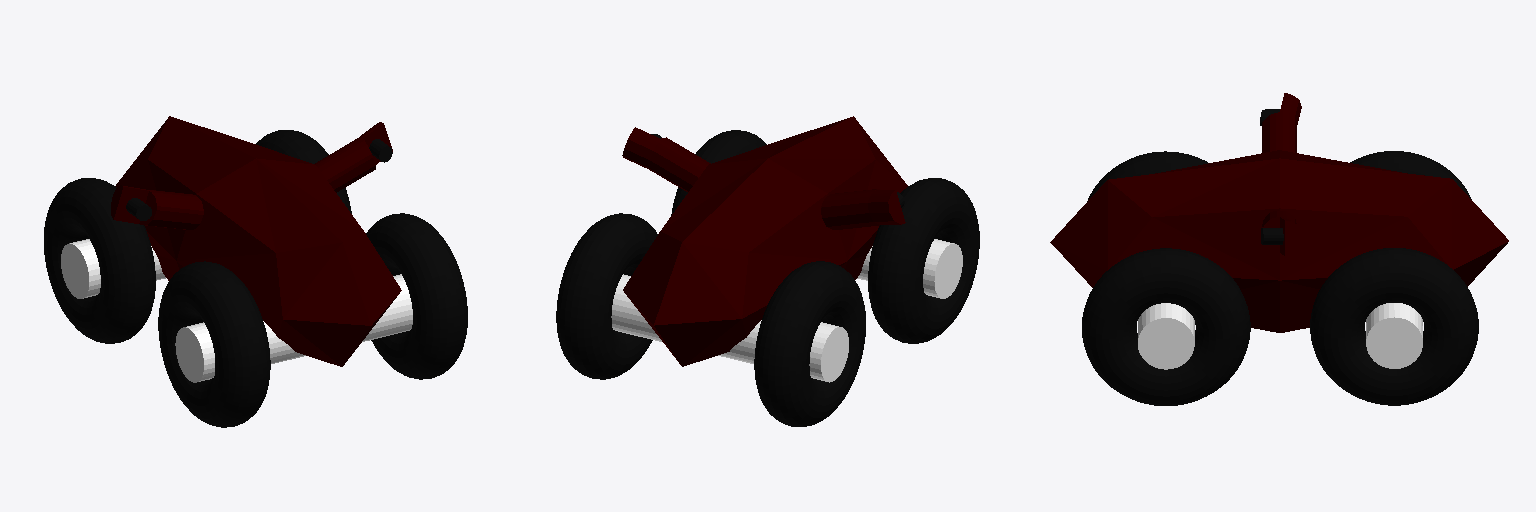
The model's file is UglyCarWithGuns.obj.
3 views of the same model, side by side, from view 1: azimuth 30°, elevation 25°; view 2: azimuth 150°, elevation 25°; view 3: azimuth 270°, elevation 25° (orthographic).
Visible parts, largest first — view 1: Mesh; view 2: Mesh; view 3: Mesh.
Part boxes in pixels (x1,y1,x2,y2): Mesh: (44,116,467,427); Mesh: (556,116,979,426); Mesh: (1050,93,1508,405).
Size of the model in its own units: 1.13 by 0.7697 by 1.61.